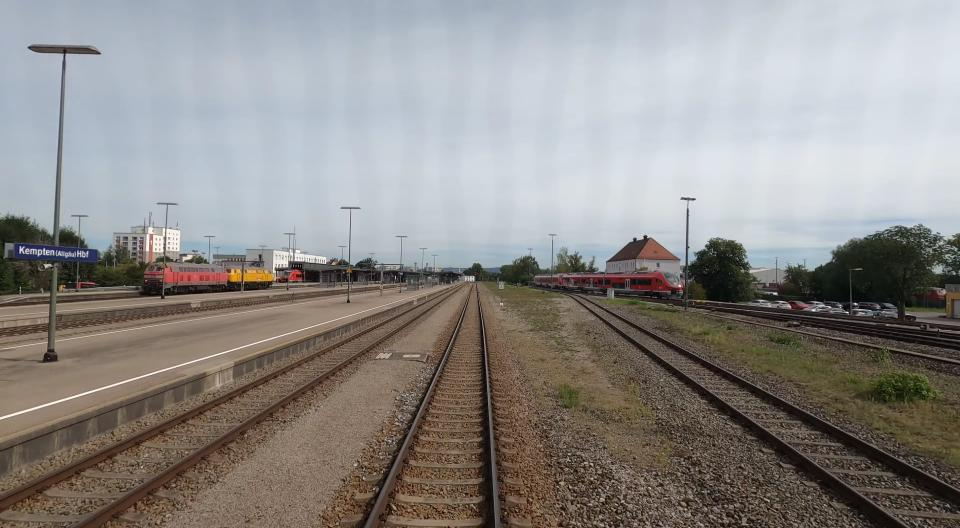Plant: (870, 372, 939, 402), (556, 383, 579, 408), (766, 332, 798, 345), (878, 348, 890, 362), (726, 324, 736, 330)
